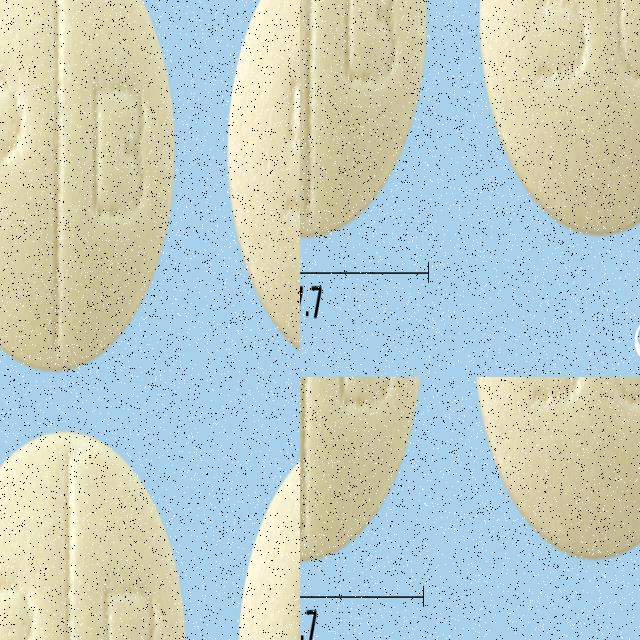Azabio: (472, 377, 640, 568), (300, 377, 424, 564)
Ciplus: (0, 419, 195, 640), (225, 417, 300, 640)
Clararoxin: (0, 196, 271, 377)
Cyspec: (300, 0, 476, 377)
